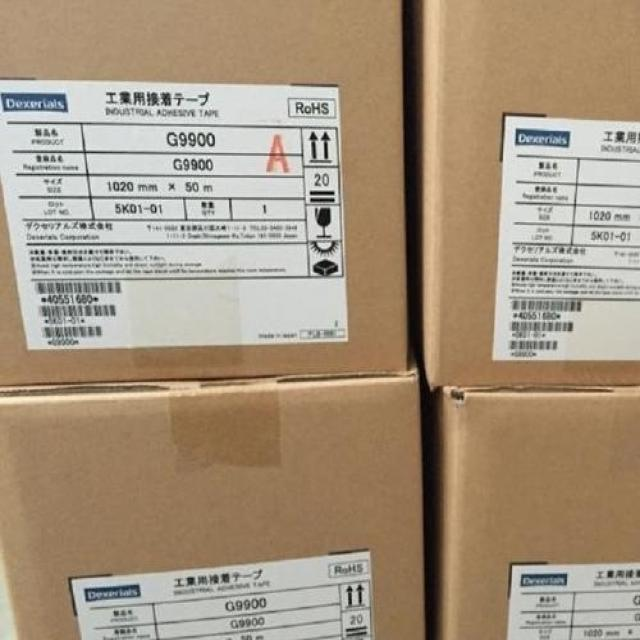box: (0, 1, 412, 386), (0, 373, 429, 638), (405, 1, 639, 389), (429, 385, 639, 638)
